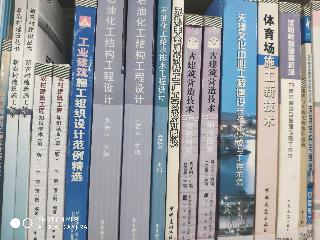book-spine: (219, 0, 256, 240), (89, 1, 126, 240), (120, 1, 155, 240), (64, 0, 96, 240), (0, 0, 26, 240), (276, 3, 301, 240), (15, 1, 39, 239), (255, 1, 279, 239), (198, 17, 221, 240), (179, 15, 201, 239), (151, 1, 171, 239), (28, 63, 51, 240), (47, 65, 69, 240), (167, 1, 183, 239), (306, 8, 313, 240), (300, 78, 307, 239)
